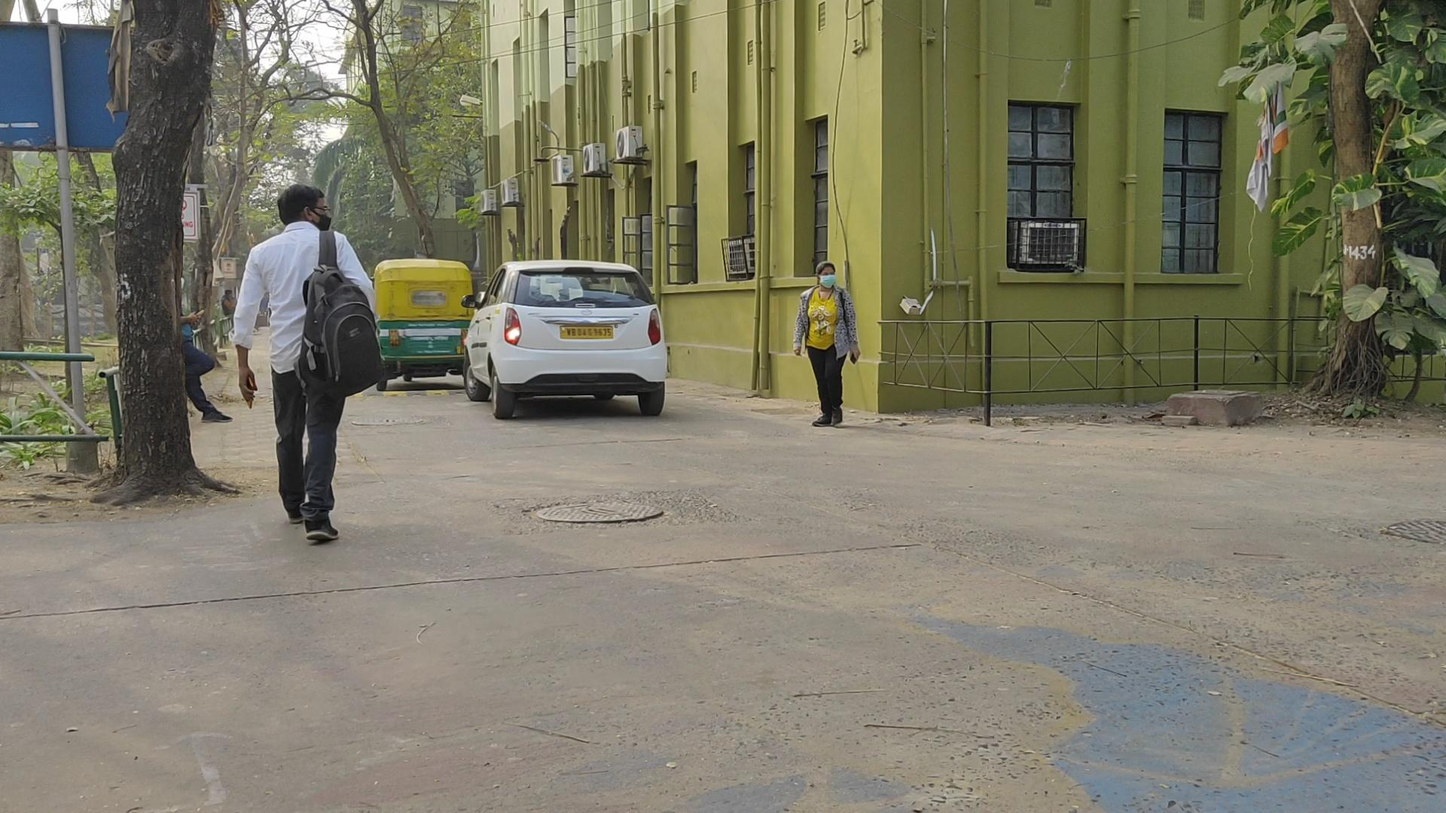Auto: (372, 259, 475, 394)
car: (463, 262, 670, 419)
